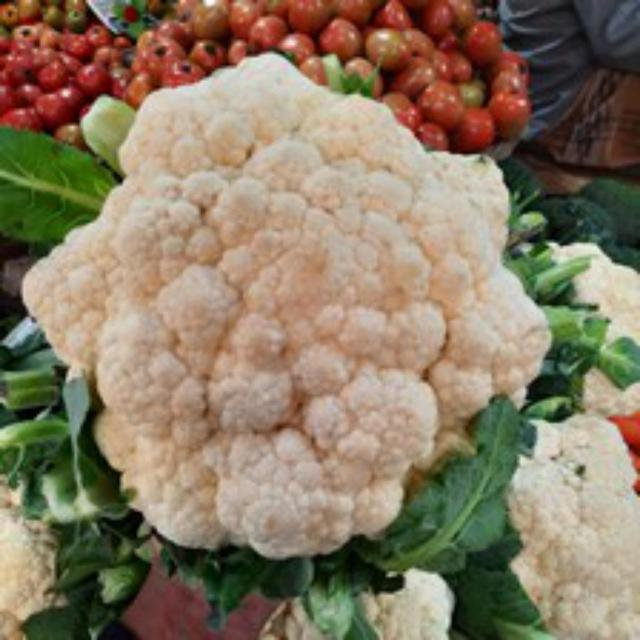cauliflower: (17, 52, 596, 572)
